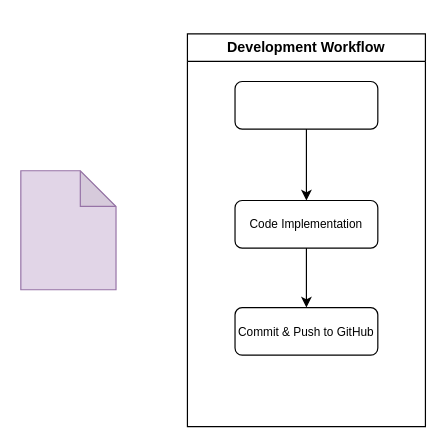
Some shapes in this 446 by 447 pixel diagram are drawn without their labels. Each missing label, with the box of its shape:
Branch Creation: (234, 80, 378, 129)
User Story, feature, bug, refactor etc: (20, 170, 116, 290)
